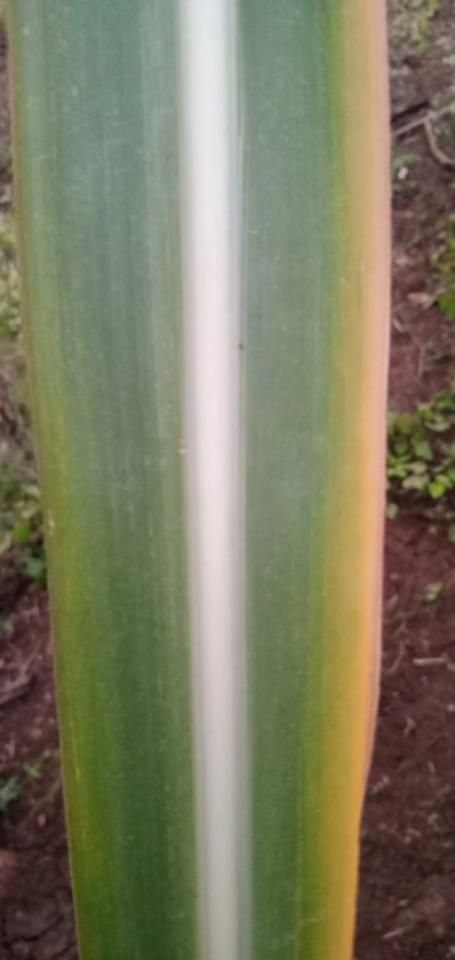Yellow: (323, 0, 391, 959)
